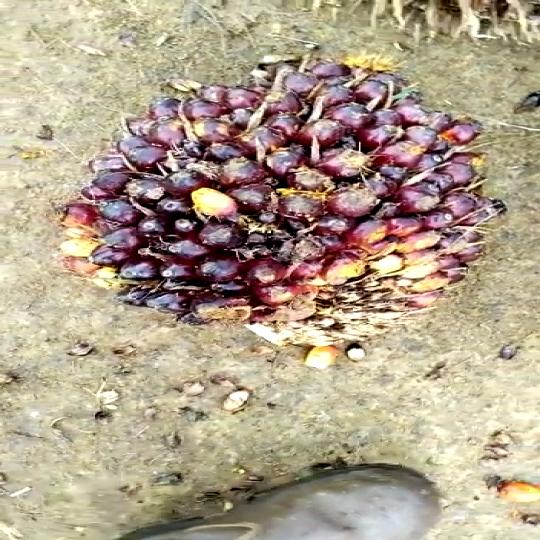mentah: (93, 46, 496, 359)
